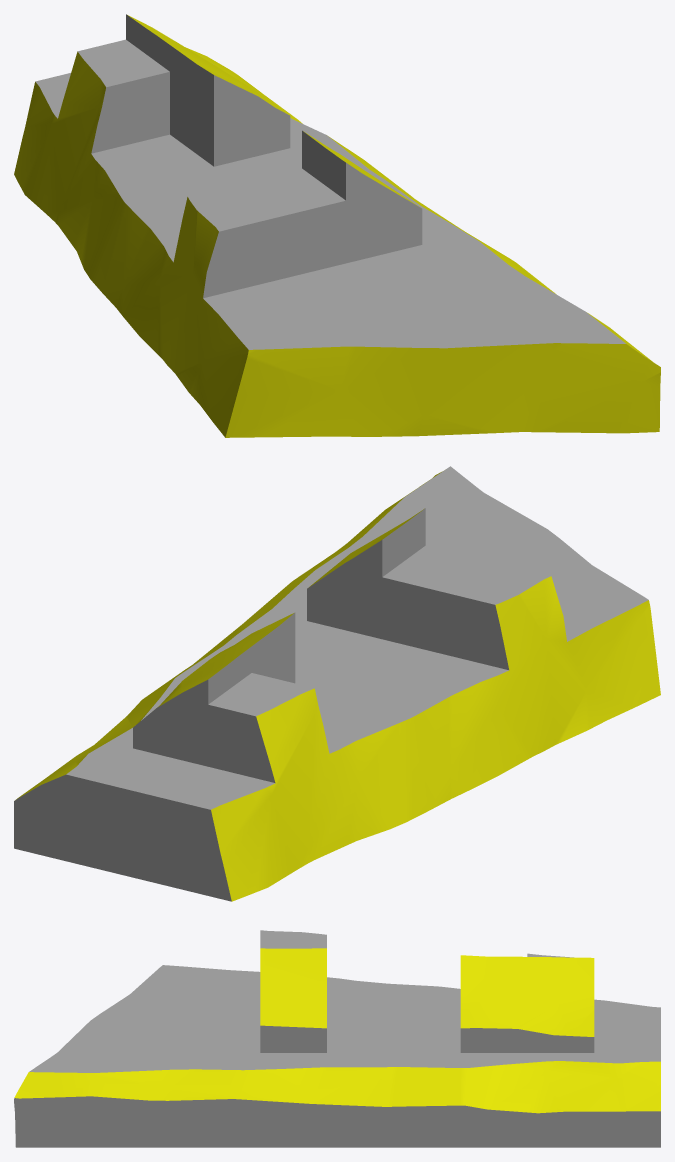
The model's file is E_Shatter_01.fbx.
3 renders of one model, top to bottom at view 1: azimuth 30°, elevation 25°; view 2: azimuth 150°, elevation 25°; view 3: azimuth 270°, elevation 25°, orthographic. The views are drawn at different scales.
Parts seen in each view (by area): view 1: shard5; view 2: shard5; view 3: shard5.
Boxes of the visible parts, x1,y1,x2,y2 form: shard5: (14,14,660,437); shard5: (14,466,660,901); shard5: (14,930,660,1147).
Bounding box in the file's own units: 3.96 × 2.15 × 8.81.
